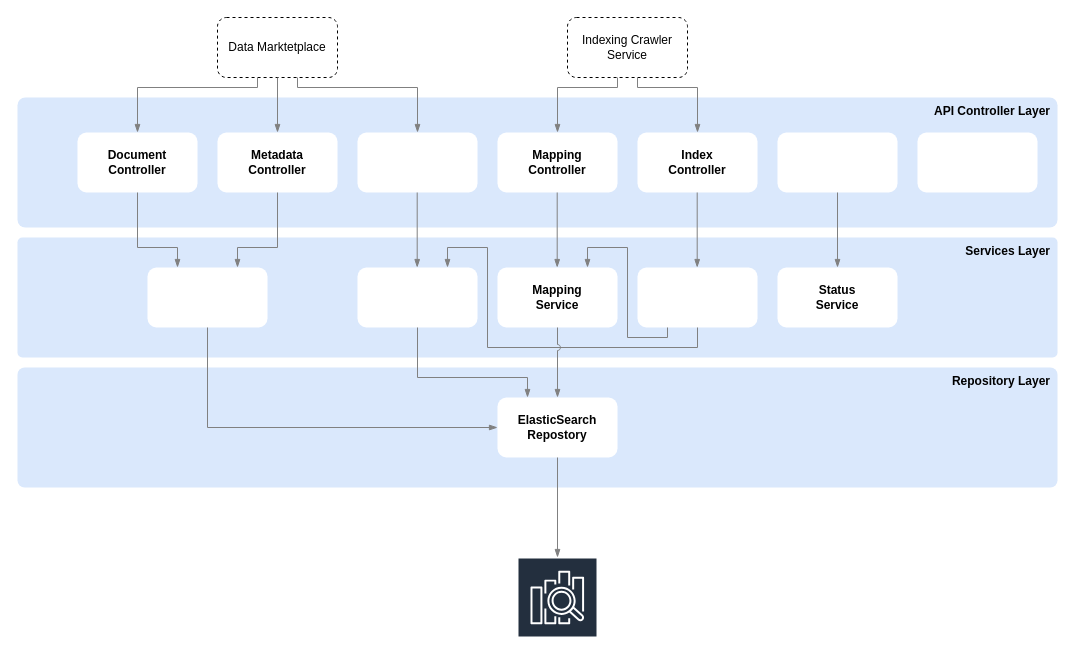
The diagram is 1074 pixels wide and 651 high, and some of its shapes have lost their labels. The centre of each missing label's shape, as x and y in pixels:
Document Service: the point at 207,297
Index Service: the point at 697,297
Logging Controller: the point at 977,162
Search Controller: the point at 417,162
Search Service: the point at 417,297
StatusController: the point at 837,162
